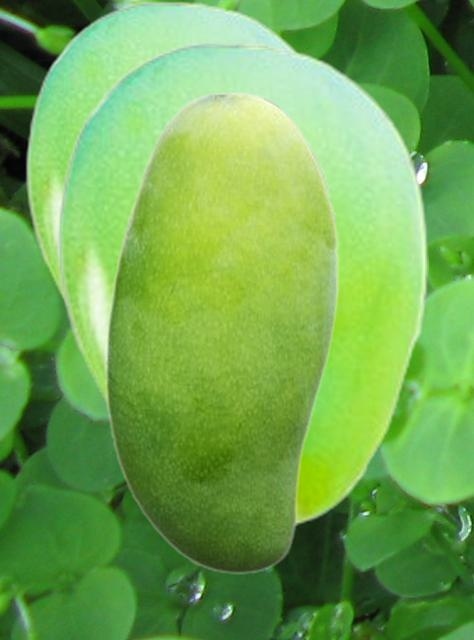green_mango: (55, 41, 427, 524), (104, 90, 339, 574), (24, 0, 301, 313)
